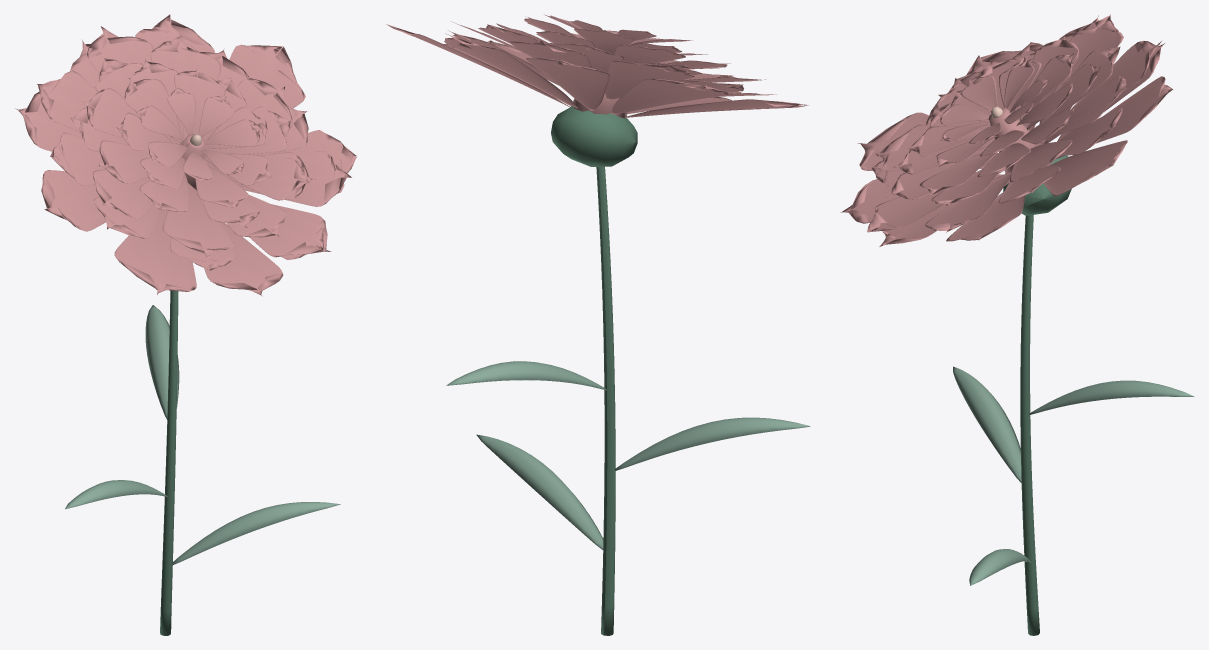
Rendered from carnation-epic-v2.glb.
The picture shows the model from 3 angles, left to right: view 1: azimuth 30°, elevation 25°; view 2: azimuth 150°, elevation 25°; view 3: azimuth 270°, elevation 25°; orthographic projection. The views are drawn at different scales.
Parts seen in each view (by area): view 1: carnation-epic-v2-petal, carnation-epic-v2-leaf, carnation-epic-v2-stem; view 2: carnation-epic-v2-petal, carnation-epic-v2-stem, carnation-epic-v2-leaf; view 3: carnation-epic-v2-petal, carnation-epic-v2-leaf, carnation-epic-v2-stem.
Boxes of the visible parts, x1,y1,x2,y2 form: carnation-epic-v2-petal: [15, 14, 357, 296]; carnation-epic-v2-leaf: [65, 305, 340, 564]; carnation-epic-v2-stem: [160, 290, 178, 635]; carnation-epic-v2-petal: [386, 14, 809, 118]; carnation-epic-v2-stem: [551, 106, 637, 635]; carnation-epic-v2-leaf: [446, 361, 810, 549]; carnation-epic-v2-petal: [840, 14, 1172, 246]; carnation-epic-v2-leaf: [953, 366, 1194, 585]; carnation-epic-v2-stem: [1003, 155, 1071, 635].
Bounding box in the file's own units: 1.07 × 1.84 × 1.
